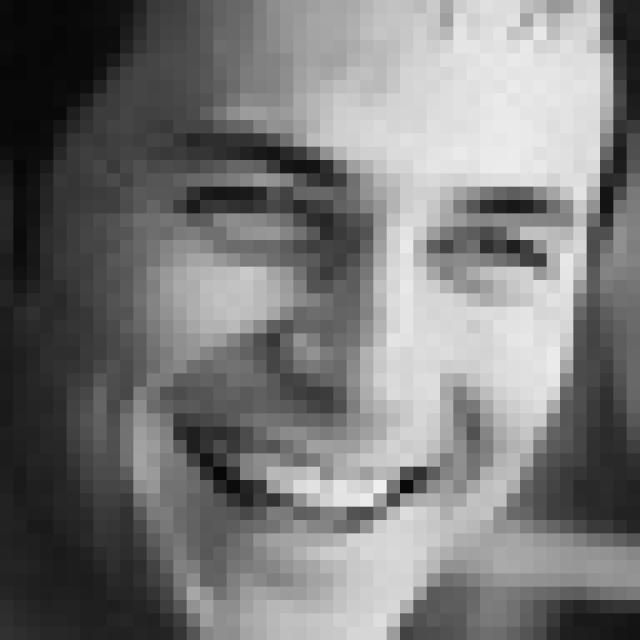happy: (150, 119, 583, 568)
